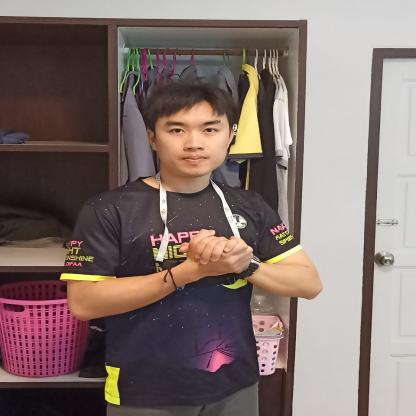Grieve: (98, 222, 316, 329)
